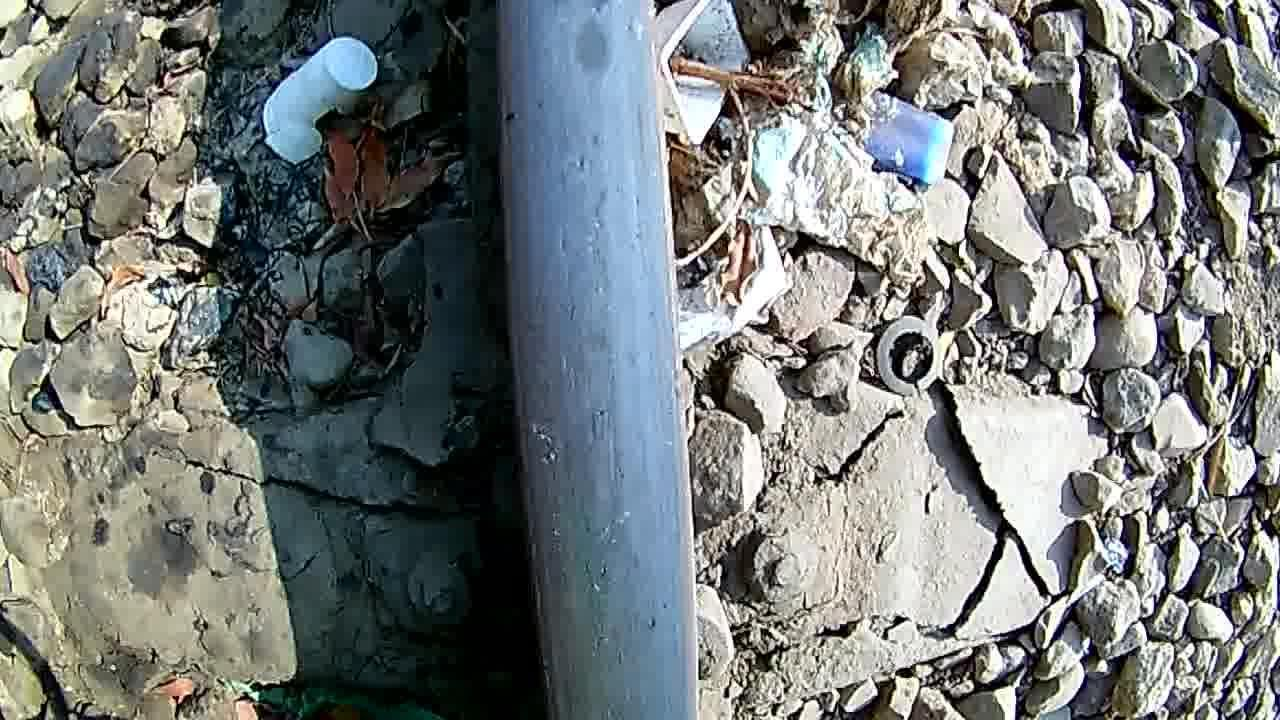crack: (506, 0, 668, 160)
